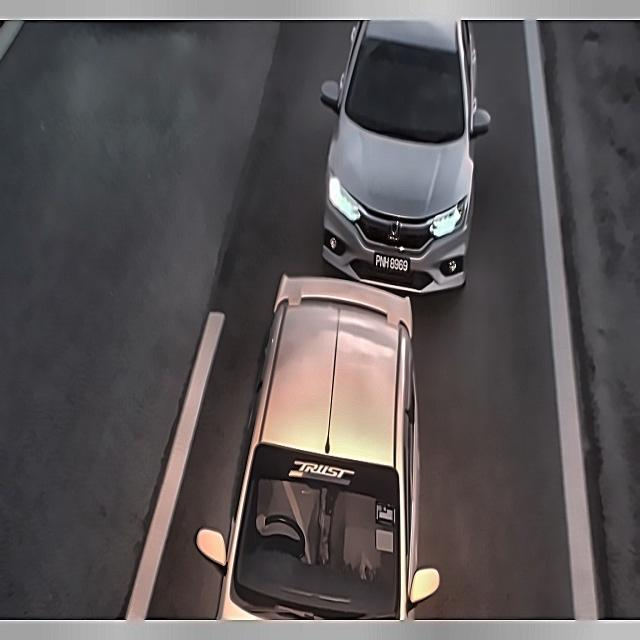car: (368, 246, 415, 281)
